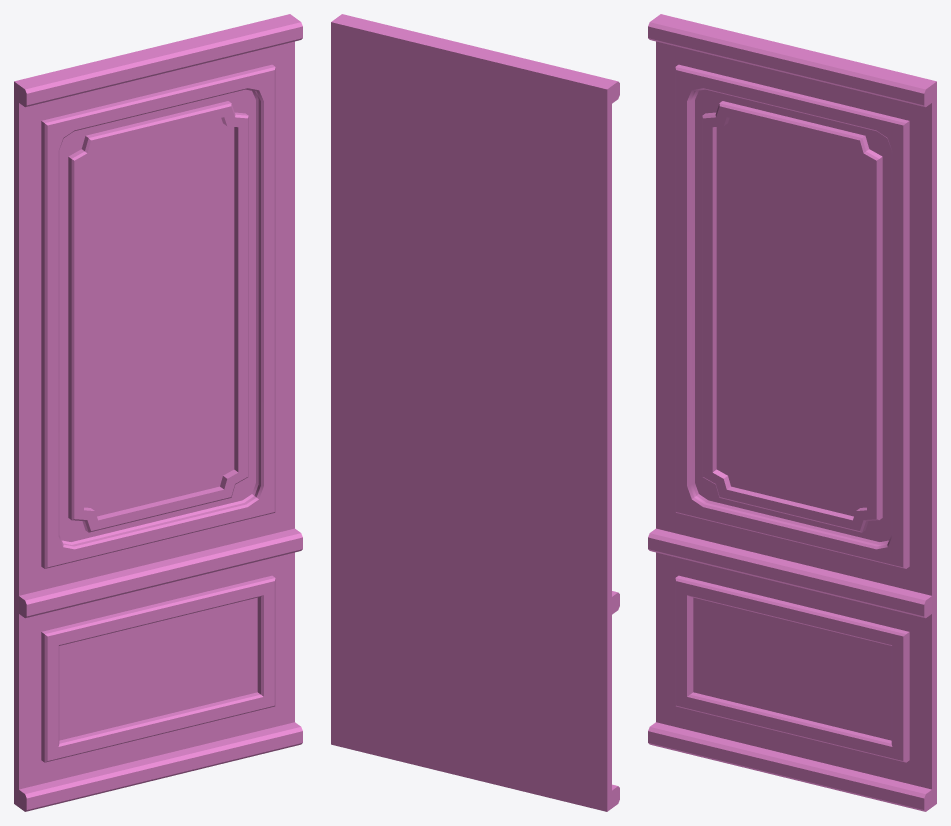
The model's file is ENV_HAU_WALL_MODEL.fbx.
3 renders of one model, left to right at view 1: azimuth 30°, elevation 25°; view 2: azimuth 150°, elevation 25°; view 3: azimuth 330°, elevation 25°, orthographic.
Parts seen in each view (by area): view 1: ENV_HAU_WALL_MODEL; view 2: ENV_HAU_WALL_MODEL; view 3: ENV_HAU_WALL_MODEL.
Boxes of the visible parts, box(x1,y1,x2,y2) form: ENV_HAU_WALL_MODEL: box(14, 14, 302, 811); ENV_HAU_WALL_MODEL: box(331, 14, 619, 811); ENV_HAU_WALL_MODEL: box(648, 14, 936, 811).
Size of the model in its own units: 100 by 250 by 8.02.
